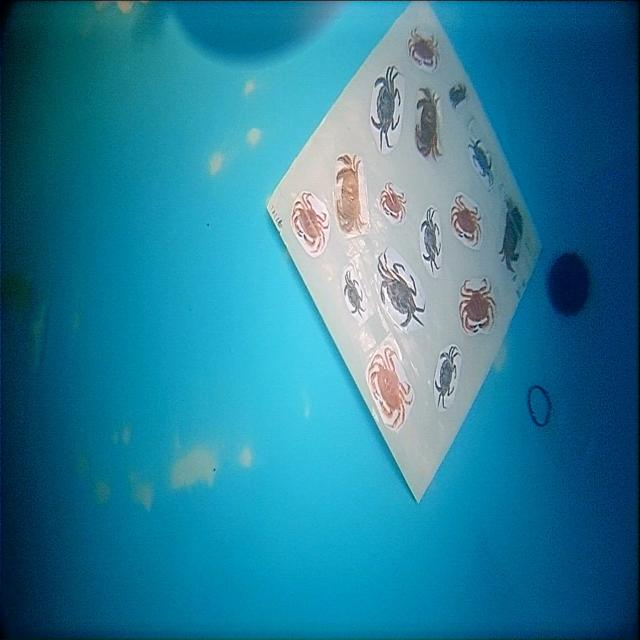GreenCrab: (378, 251, 425, 327), (371, 66, 401, 151), (435, 345, 459, 408), (420, 207, 440, 275), (344, 271, 364, 316)
